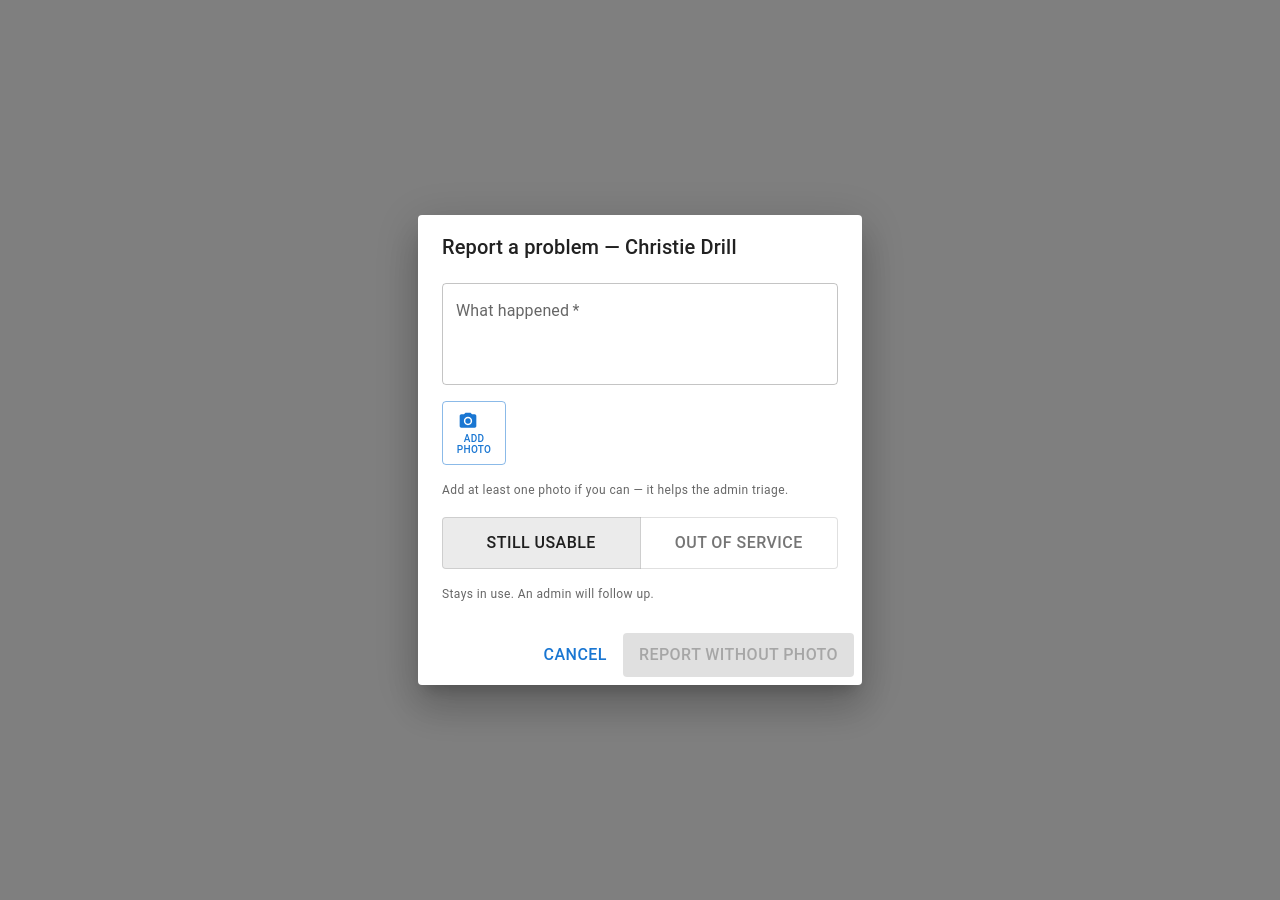
Test: ReportProblemDialog — photos never block (UXP-3 3g / D36) › unit + notes + 0 photos → submit is ENABLED and labelled "Report without photo"
Type "cracked housing" into the text box labelled "What happened *" at (640, 334), box 456,300 -> 824,369
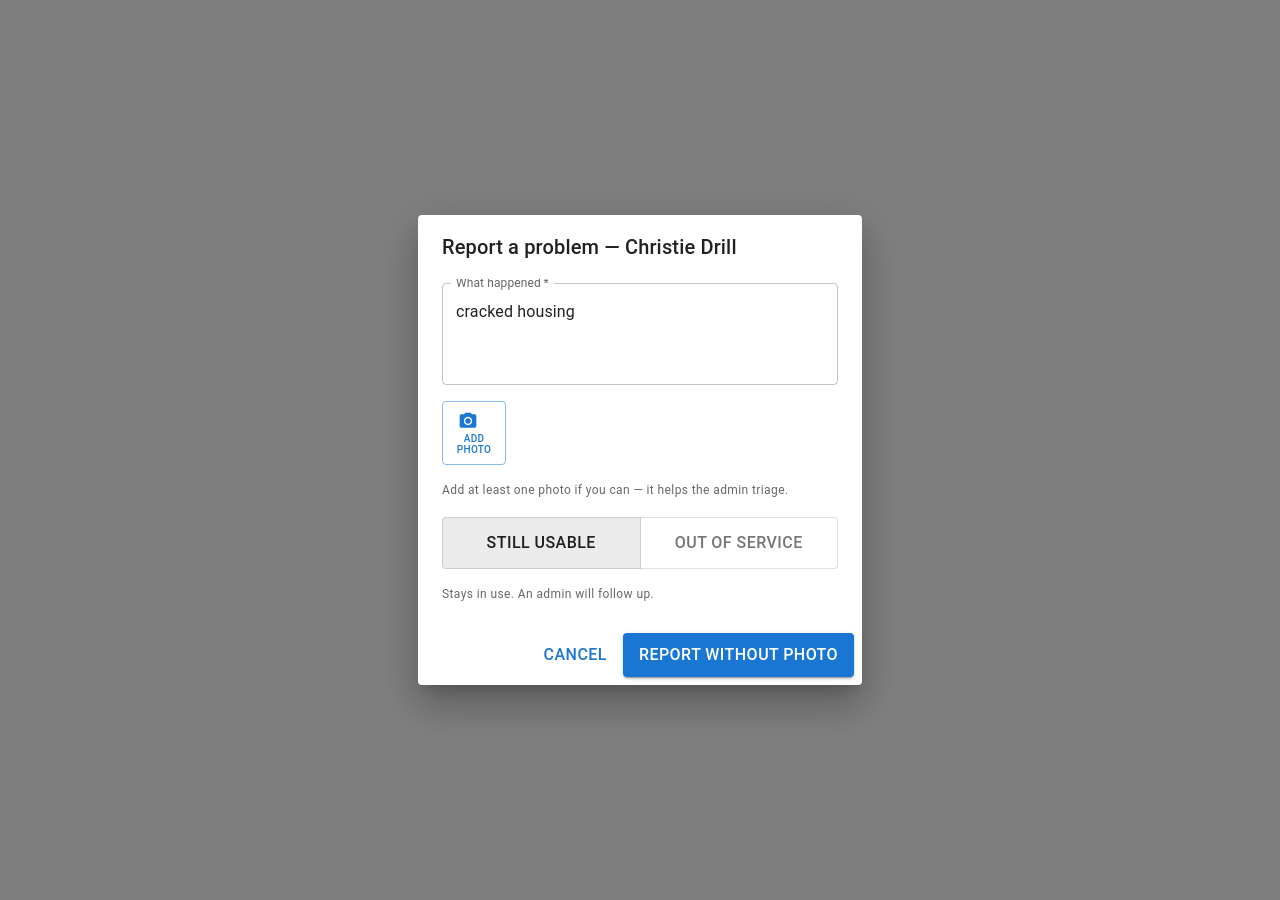
Result: the button "Report without photo" is enabled at 623,633 -> 854,677
